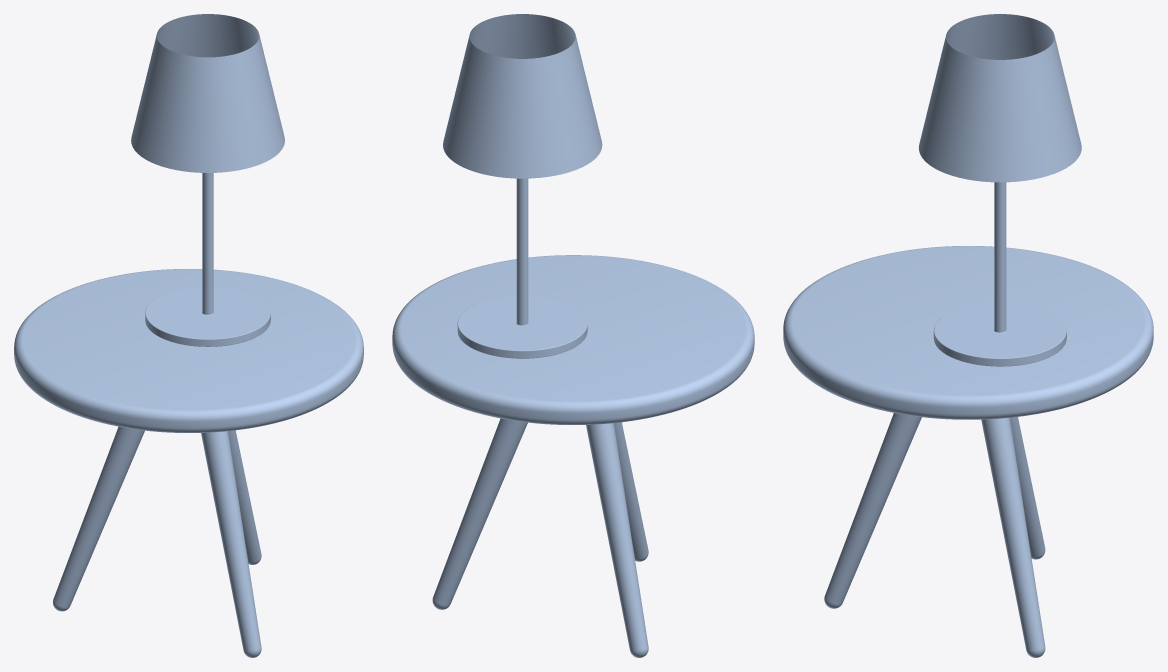
Rendered from couch-table.fbx.
The picture shows the model from 3 angles, left to right: view 1: azimuth 30°, elevation 25°; view 2: azimuth 150°, elevation 25°; view 3: azimuth 270°, elevation 25°; orthographic projection. The views are drawn at different scales.
Visible parts, largest first — view 1: Object_37.002, Object_111.002, Object_110.001, Object_39.001, Object_41.001, Object_43.001; view 2: Object_37.002, Object_111.002, Object_110.001, Object_41.001, Object_43.001, Object_39.001; view 3: Object_37.002, Object_111.002, Object_110.001, Object_43.001, Object_39.001, Object_41.001.
Part boxes in pixels (<box>): Object_37.002: <box>14,269,363,432</box>; Object_111.002: <box>131,14,284,172</box>; Object_110.001: <box>145,173,270,346</box>; Object_39.001: <box>201,431,261,657</box>; Object_41.001: <box>53,426,144,611</box>; Object_43.001: <box>228,430,261,564</box>; Object_37.002: <box>392,255,754,424</box>; Object_111.002: <box>443,14,602,178</box>; Object_110.001: <box>457,178,587,358</box>; Object_41.001: <box>586,423,648,657</box>; Object_43.001: <box>432,418,527,609</box>; Object_39.001: <box>614,422,648,561</box>; Object_37.002: <box>783,246,1153,419</box>; Object_111.002: <box>919,14,1081,182</box>; Object_110.001: <box>933,182,1066,366</box>; Object_43.001: <box>981,418,1045,657</box>; Object_39.001: <box>824,413,921,608</box>; Object_41.001: <box>1010,417,1045,559</box>.
Bounding box in the file's own units: 61.24 × 107 × 61.24.
